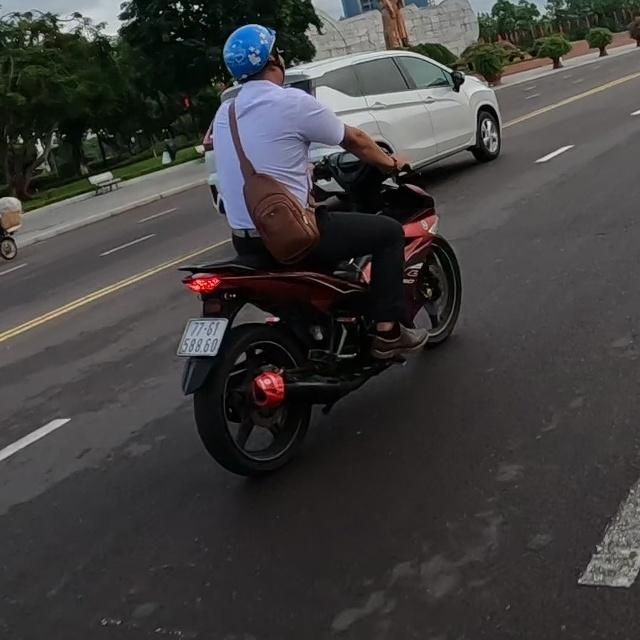license-plate: (176, 317, 230, 358)
